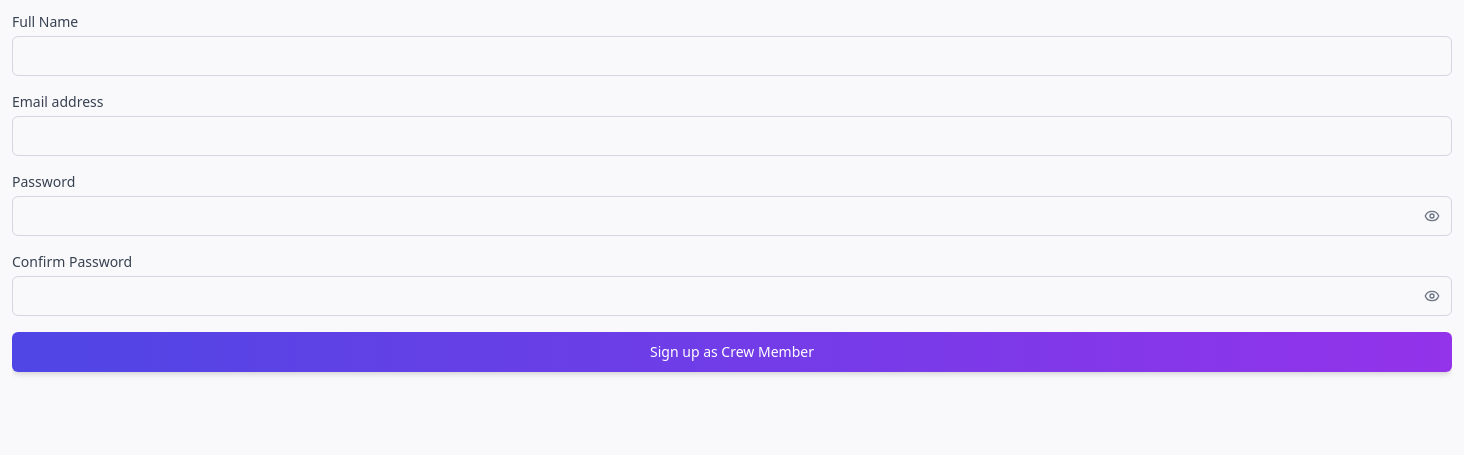
Test: CrewSignupForm › surfaces a duplicate-account error from the API
The image size is (1464, 455).
Type "Ada Lovelace" into the field labelled "Full Name".
click(732, 56); type("Ada Lovelace")  # box x1=12 y1=36 x2=1452 y2=76
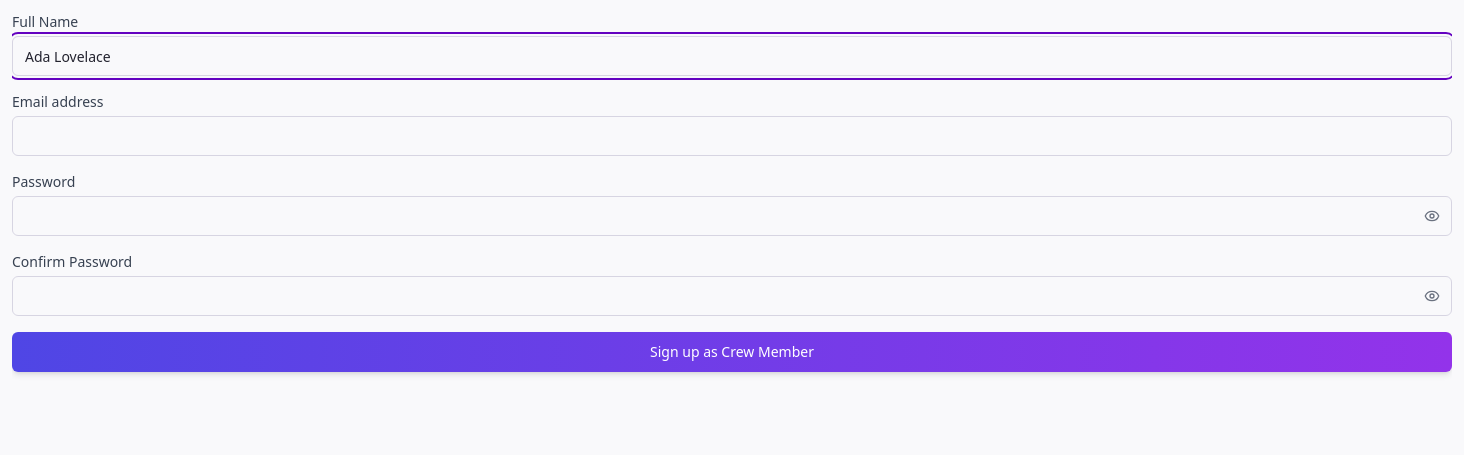
Type "ada@example.com" into the field labelled "Email address".
click(732, 136); type("ada@example.com")  # box x1=12 y1=116 x2=1452 y2=156
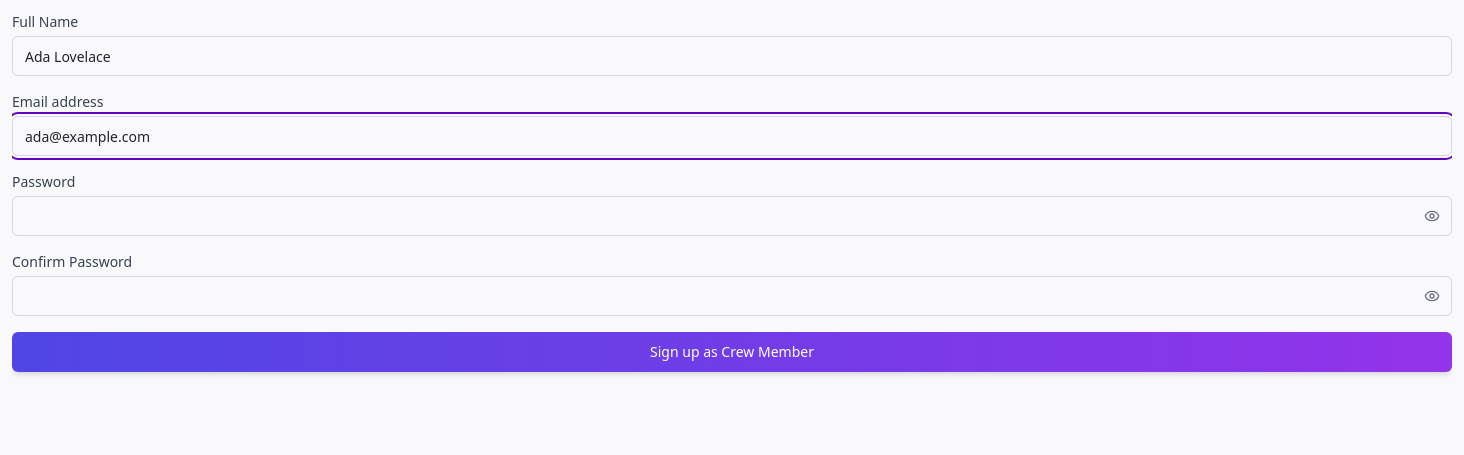
Type "Sup3r$ecret" into the password field labelled "Password".
click(732, 216); type("Sup3r$ecret")  # box x1=12 y1=196 x2=1452 y2=236
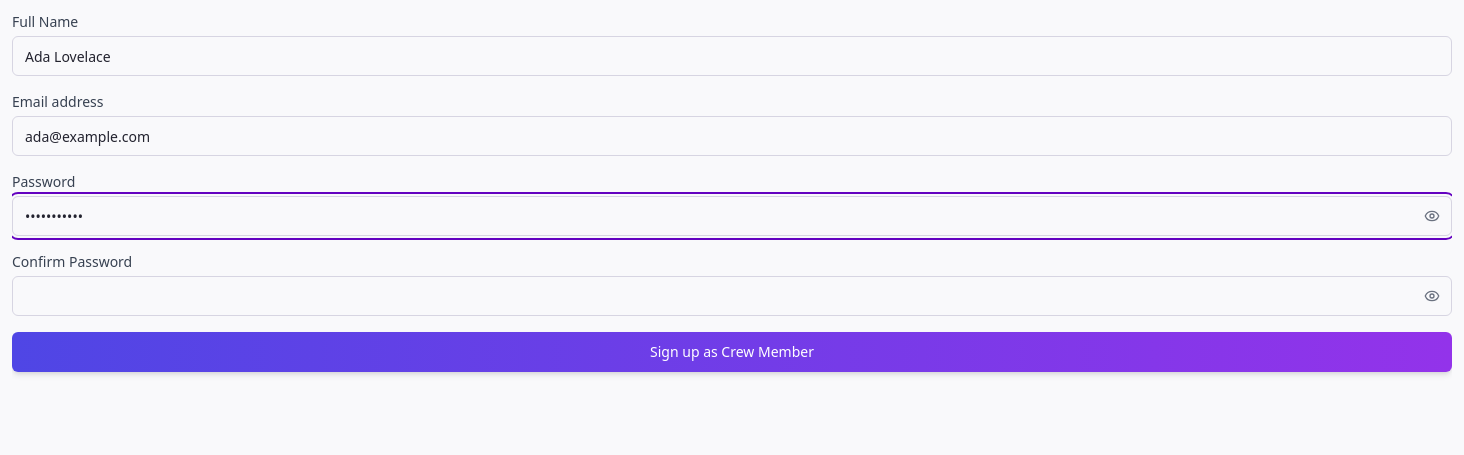
Type "Sup3r$ecret" into the password field labelled "Confirm Password".
click(732, 296); type("Sup3r$ecret")  # box x1=12 y1=276 x2=1452 y2=316
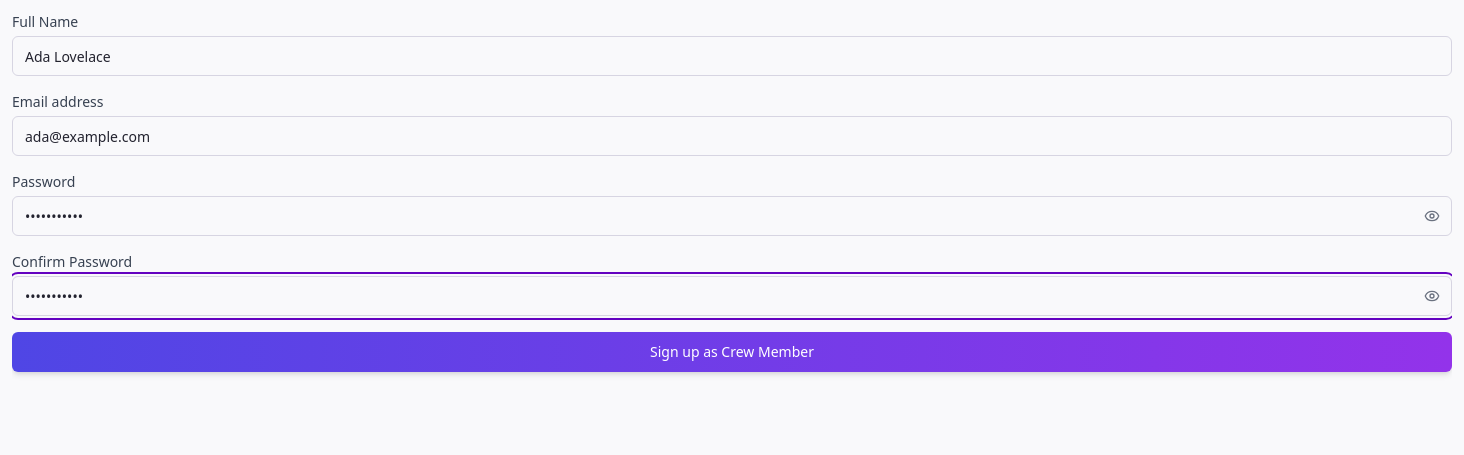
Click the button "Sign up as Crew Member".
click(732, 352)  # box x1=12 y1=332 x2=1452 y2=372
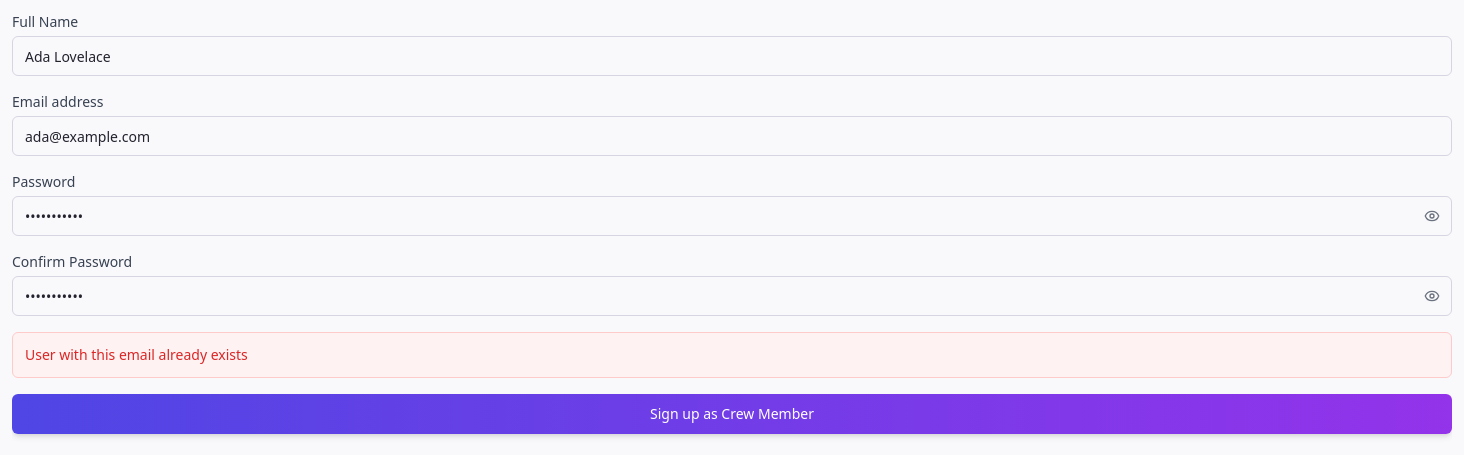
Check: the text "User with this email already exists" is shown, box x1=25 y1=345 x2=248 y2=364
